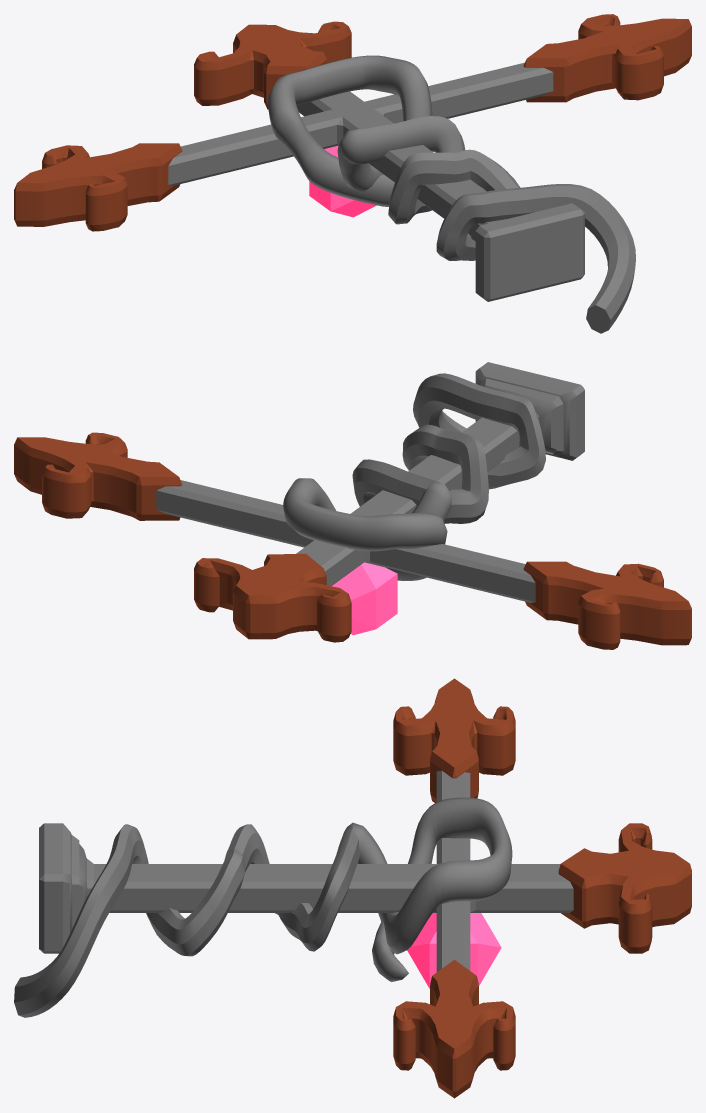
The model's file is SM_Cross.fbx.
The picture shows the model from 3 angles, top to bottom: view 1: azimuth 30°, elevation 25°; view 2: azimuth 150°, elevation 25°; view 3: azimuth 270°, elevation 25°; orthographic projection. The views are drawn at different scales.
Parts seen in each view (by area): view 1: SM_Cross; view 2: SM_Cross; view 3: SM_Cross.
Part boxes in pixels (box(x1,y1,x2,y2)): SM_Cross: box(14, 14, 691, 333); SM_Cross: box(14, 362, 691, 649); SM_Cross: box(14, 678, 691, 1098).
Size of the model in its own units: 164 by 126 by 33.23.
